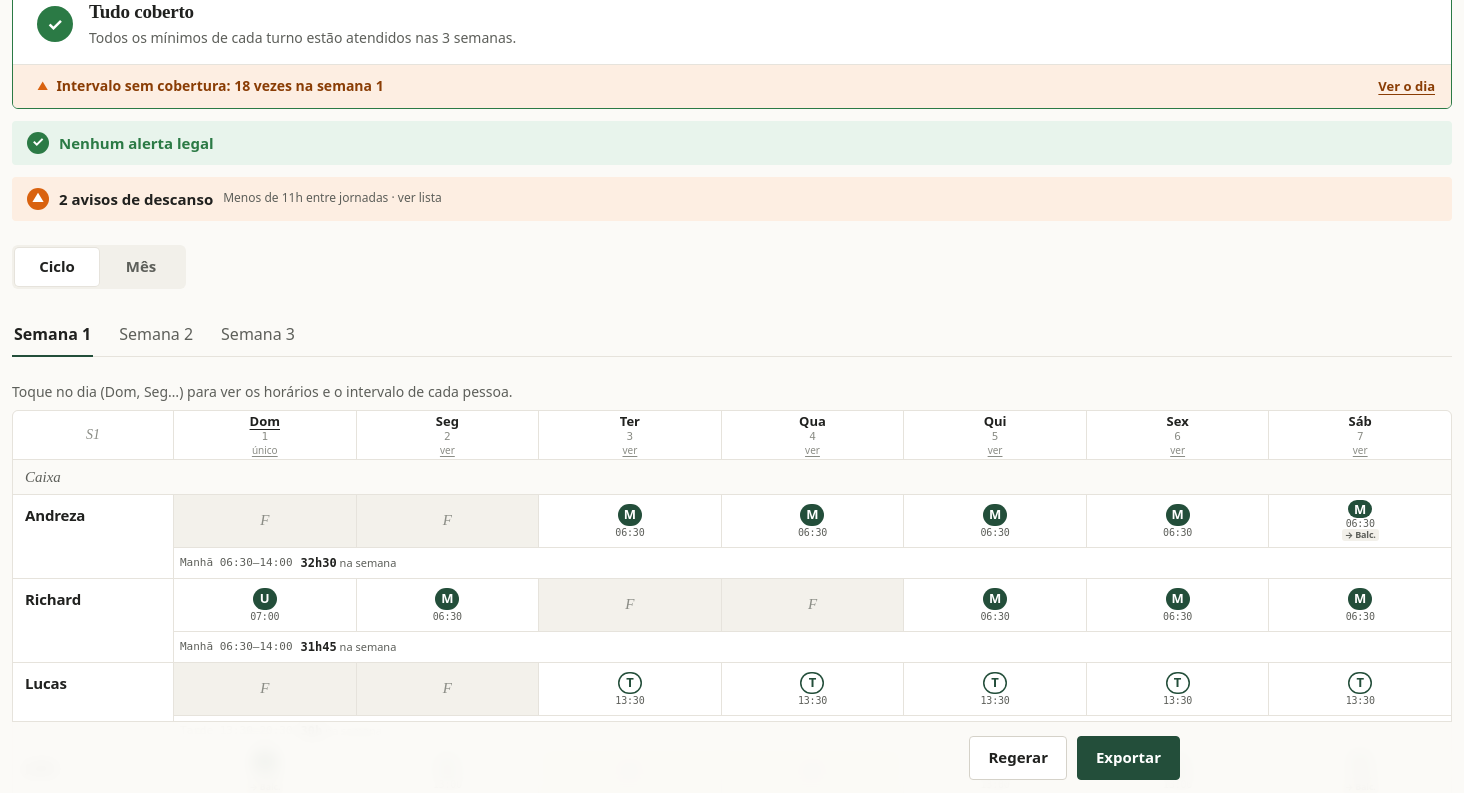
Visão Mês › "Mês" mostra o mês de hoje com as semanas em datas reais e a semana do ciclo
Click the button "Mês" at {"x": 141, "y": 267}, box [99,248,183,286]
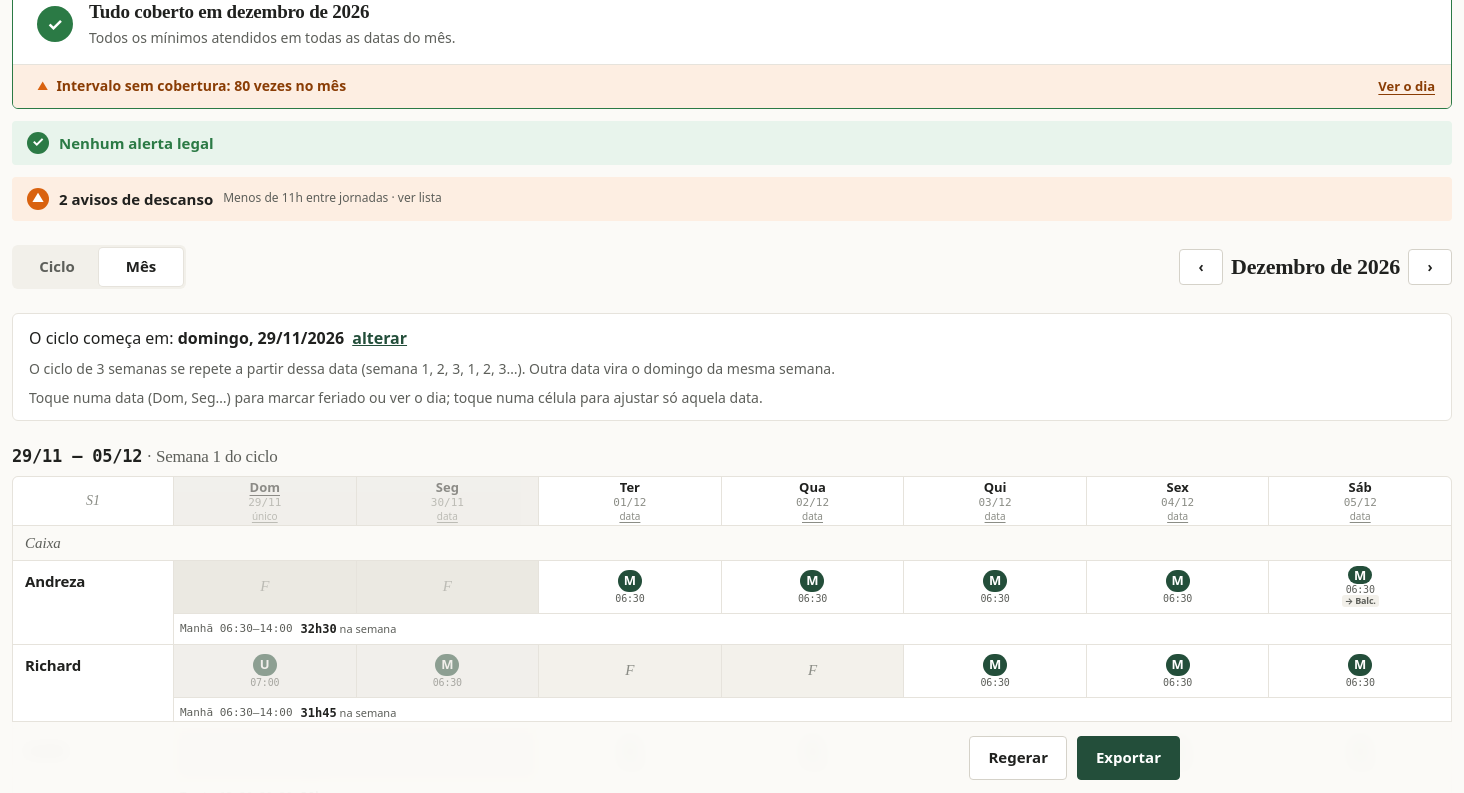
expect the heading "Dezembro de 2026" is shown: met, box [1231,254,1400,279]
expect the text "O ciclo começa em: domingo, 29/11/2026 alterar" is shown: met, box [29,326,407,350]
expect the button with aria-label "Domingo, 29/11, turno único, fora do mês: opções da data" is shown: met, box [174,477,356,525]
Click the button "Ciclo" at {"x": 57, "y": 267}, box [15,248,99,286]
(page scrolled)
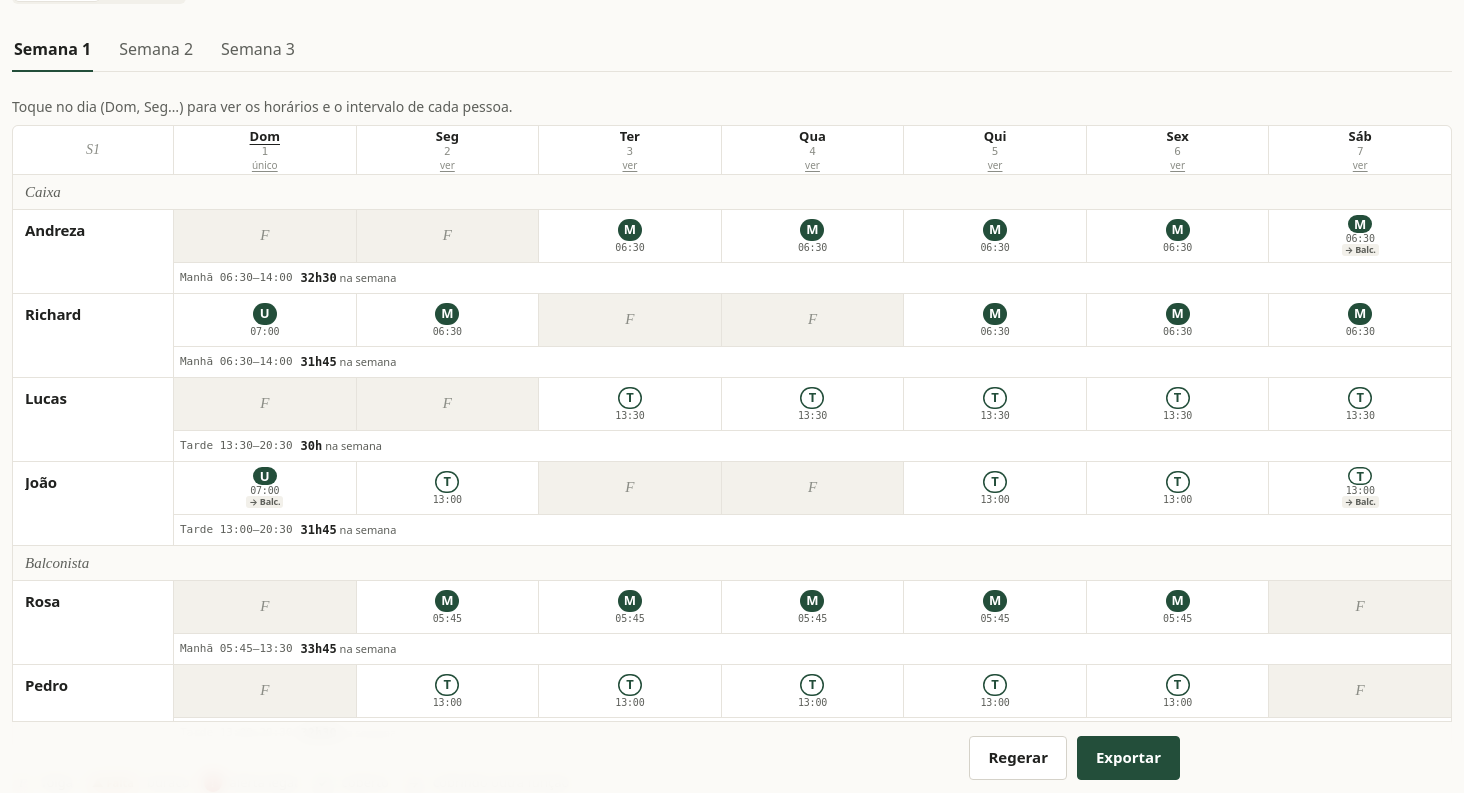
expect the table named "Escala da semana 1" is shown: met
